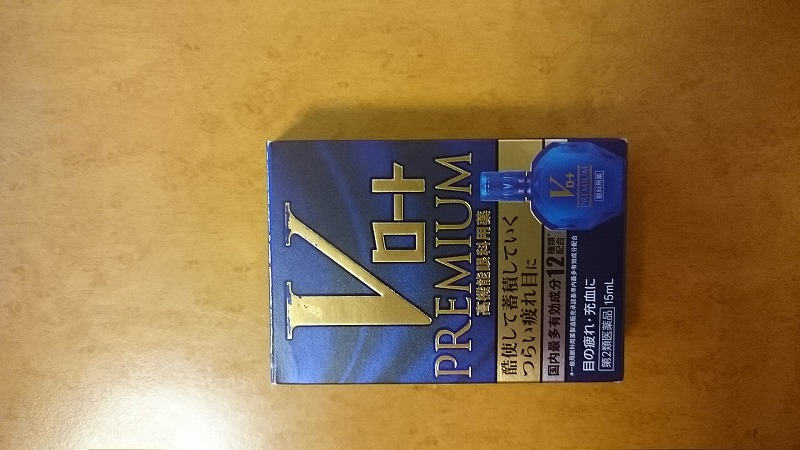D: (261, 135, 631, 389)
